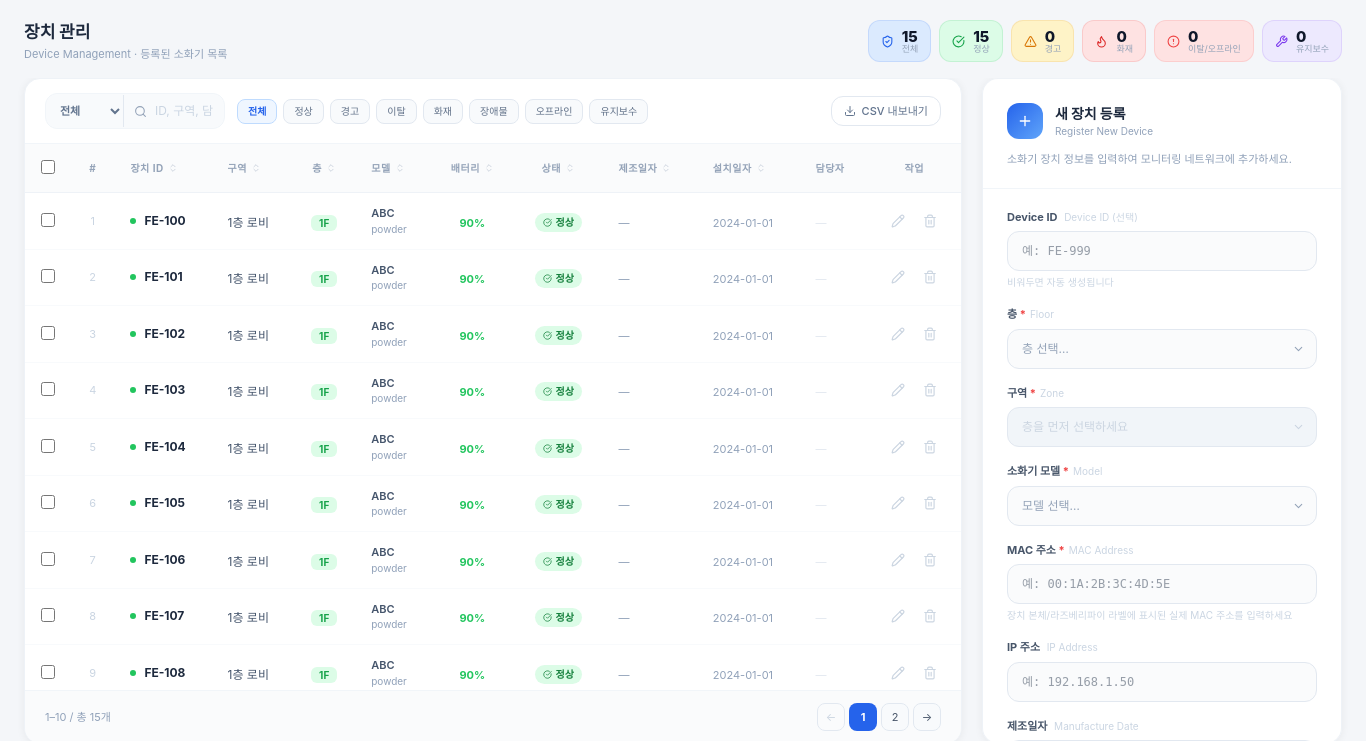
DeviceManagement › paginates beyond the page size
This screenshot has width=1366, height=741.
expect the text "FE-100" is shown: met, box x1=144 y1=212 x2=186 y2=230
expect the text "1–10 / 총 15개" is shown: met, box x1=45 y1=709 x2=111 y2=725
Click the button "2" at (895, 717), box x1=881 y1=703 x2=909 y2=731
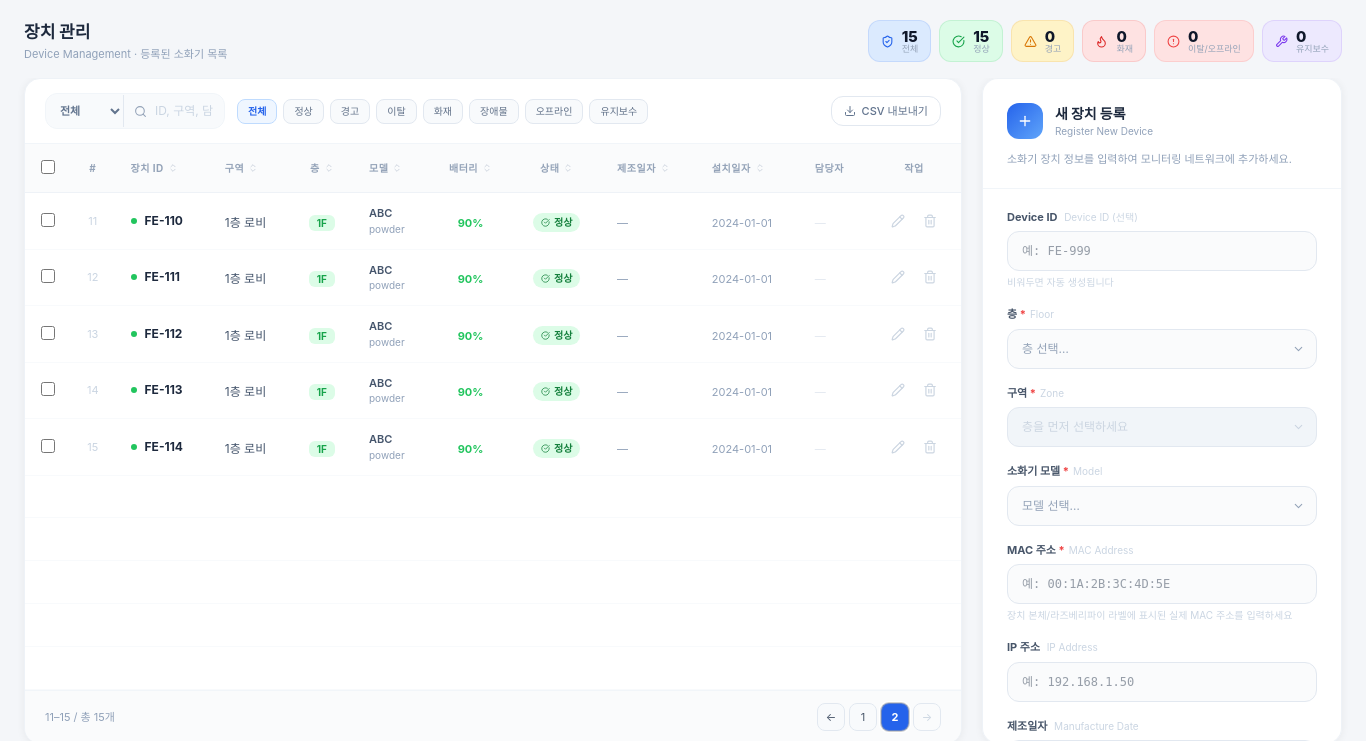
expect the text "11–15 / 총 15개" is shown: met, box x1=45 y1=709 x2=115 y2=725
expect the text "FE-110" is shown: met, box x1=144 y1=212 x2=183 y2=230
expect the text "FE-100" is gone: met
